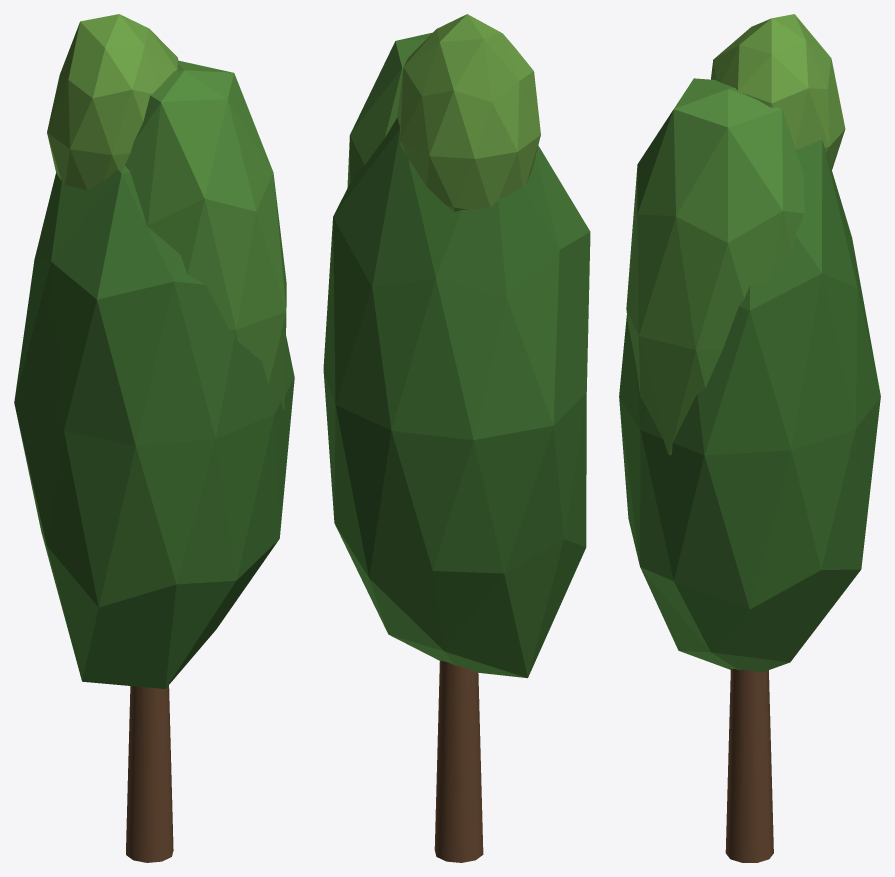
Rendered from Agac_Kavak.fbx.
The picture shows the model from 3 angles, left to right: view 1: azimuth 30°, elevation 25°; view 2: azimuth 150°, elevation 25°; view 3: azimuth 270°, elevation 25°; orthographic projection. The views are drawn at different scales.
Visible parts, largest first — view 1: Agac_Kavak_Model; view 2: Agac_Kavak_Model; view 3: Agac_Kavak_Model.
Boxes of the visible parts, left/top/right/bottom form: Agac_Kavak_Model: left=14, top=14, right=294, bottom=862; Agac_Kavak_Model: left=323, top=14, right=590, bottom=862; Agac_Kavak_Model: left=619, top=14, right=880, bottom=862.
Size of the model in its own units: 2.46 by 8.31 by 2.39.
